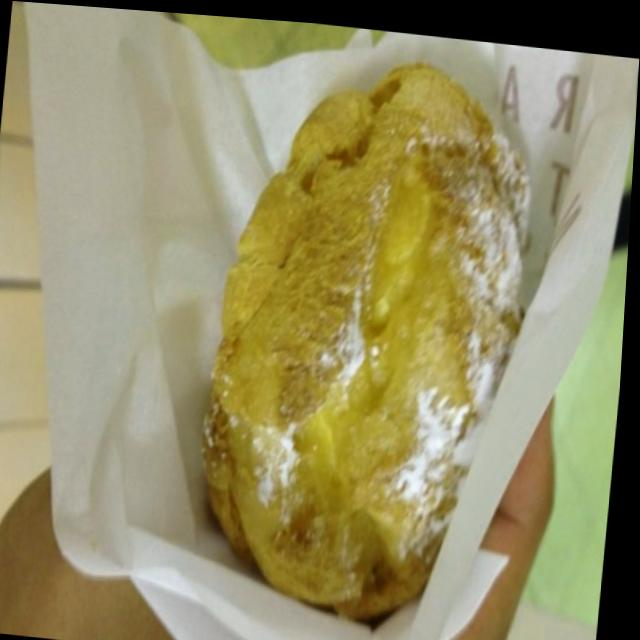炸货点心: (108, 18, 609, 640)
蛋糕甜品: (108, 18, 609, 640)
